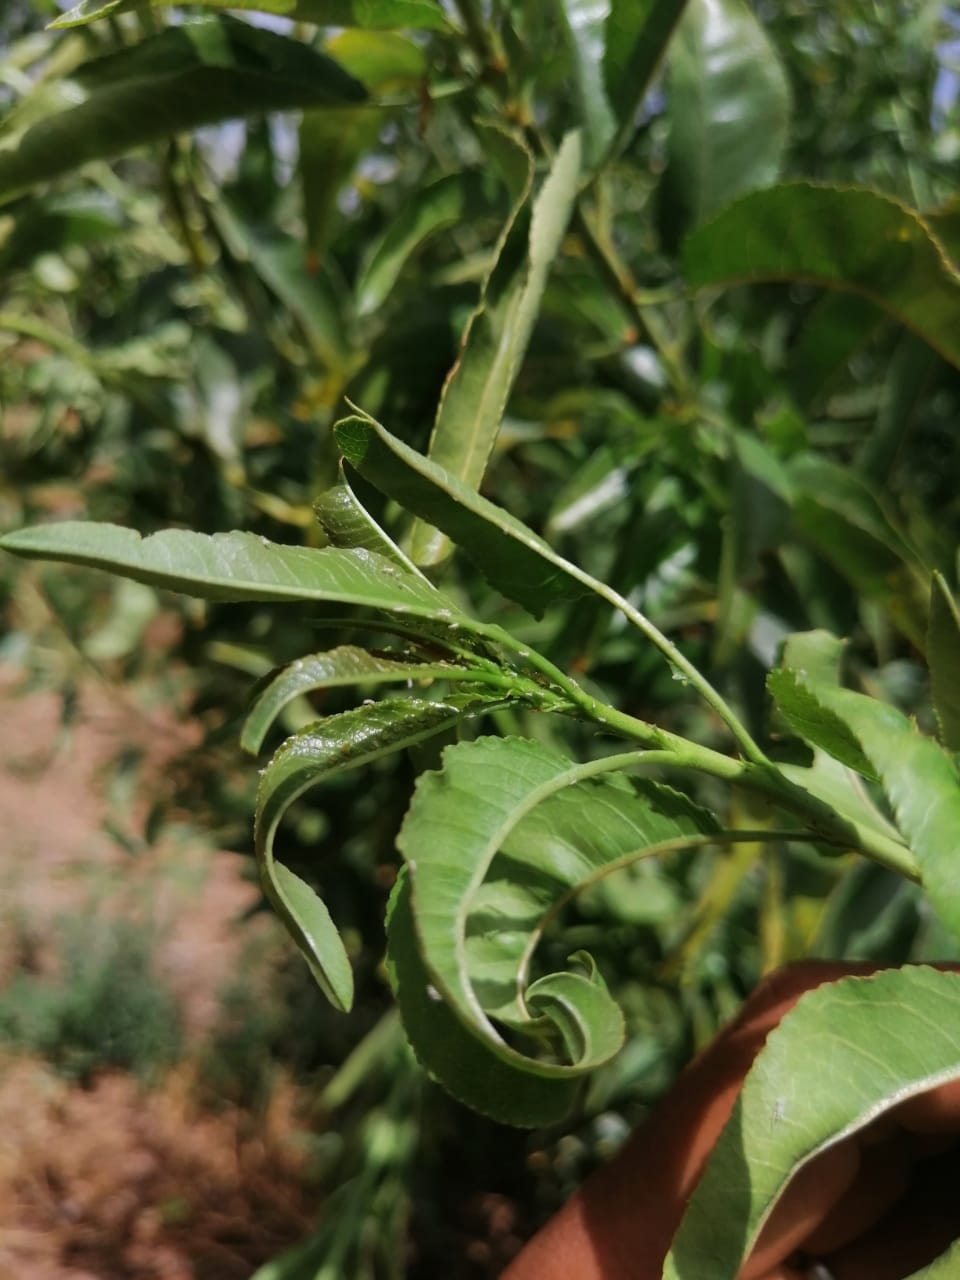chancre fusicocum: (155, 204, 445, 967), (494, 63, 686, 1065)
